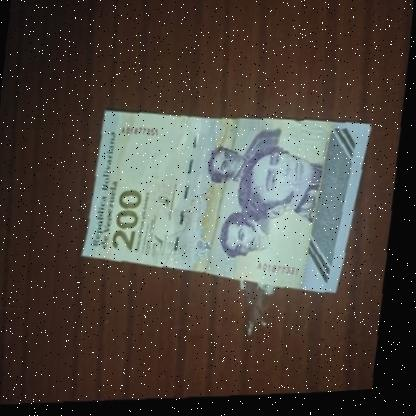two_hundred-front-vef: (79, 97, 376, 312)
